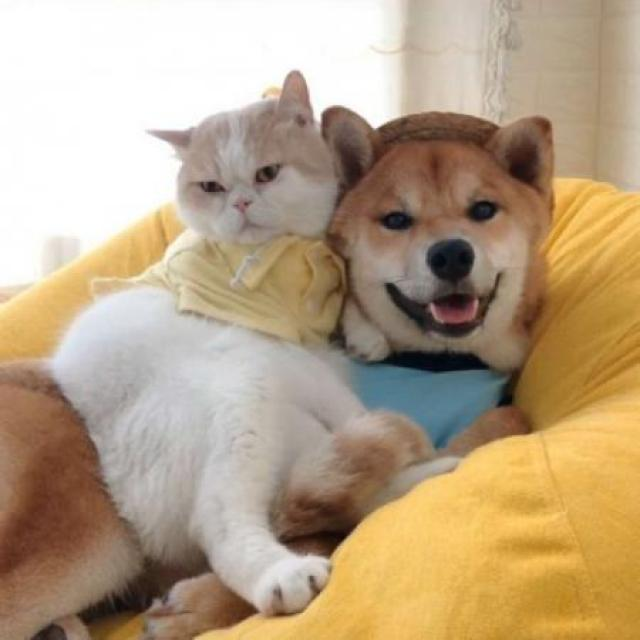cat: (128, 67, 349, 296)
dog: (326, 89, 575, 378)
